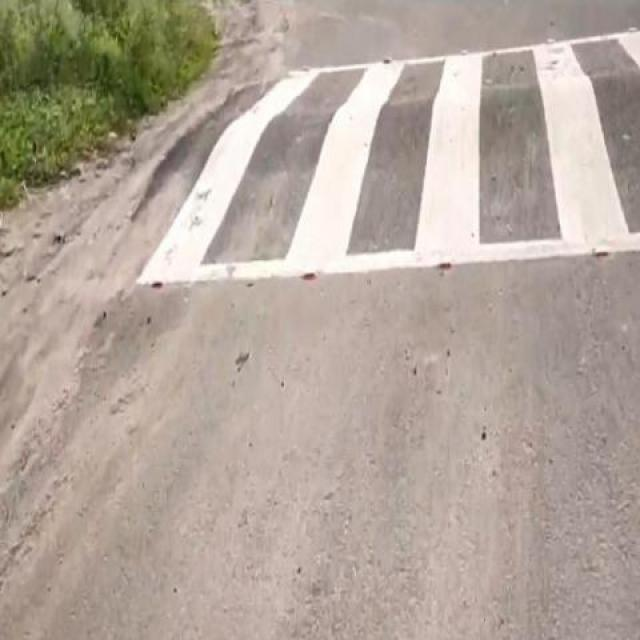Speed Bump: (106, 27, 638, 288)
